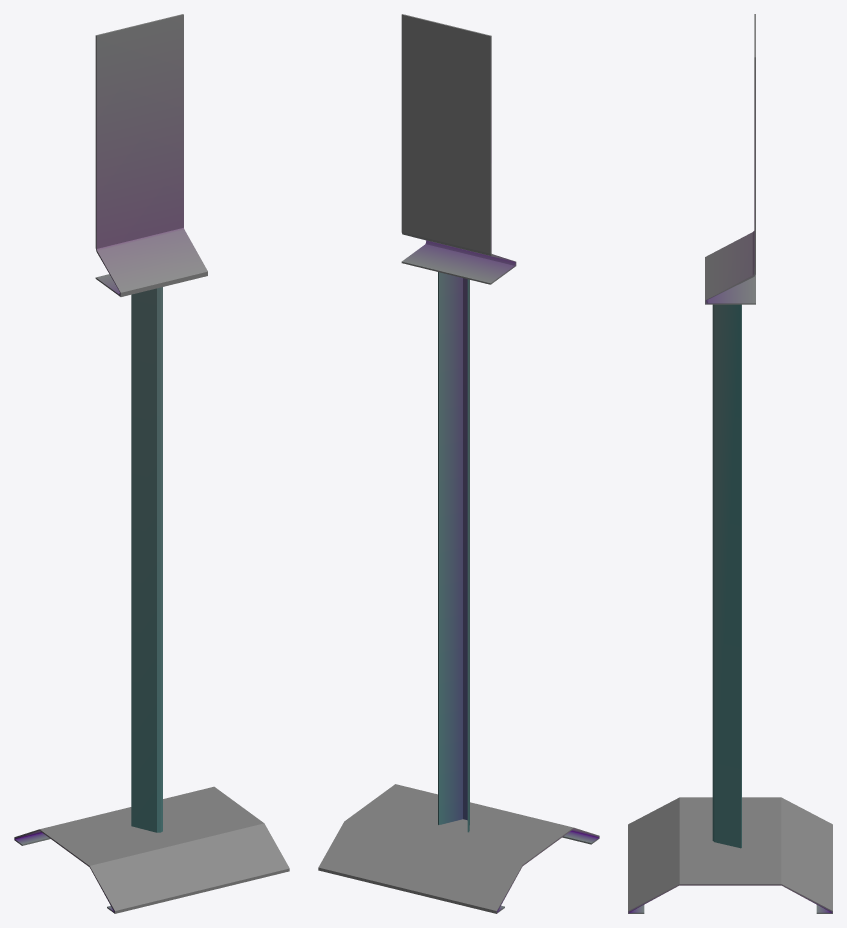
The picture shows the model from 3 angles, left to right: view 1: azimuth 30°, elevation 25°; view 2: azimuth 150°, elevation 25°; view 3: azimuth 270°, elevation 25°; orthographic projection. The views are drawn at different scales.
Visible parts, largest first — view 1: panel_sheet, base_sheet, post; view 2: panel_sheet, base_sheet, post; view 3: base_sheet, post, panel_sheet.
Part boxes in pixels (x1=…): panel_sheet: x1=95, y1=14, x2=207, y2=296; base_sheet: x1=14, y1=786, x2=289, y2=913; post: x1=131, y1=287, x2=162, y2=832; panel_sheet: x1=401, y1=14, x2=516, y2=284; base_sheet: x1=318, y1=784, x2=599, y2=913; post: x1=438, y1=272, x2=469, y2=832; base_sheet: x1=628, y1=797, x2=832, y2=913; post: x1=712, y1=304, x2=741, y2=848; panel_sheet: x1=705, y1=14, x2=755, y2=304.
Size of the model in its own units: 0.3784 by 1.7 by 0.3782.
